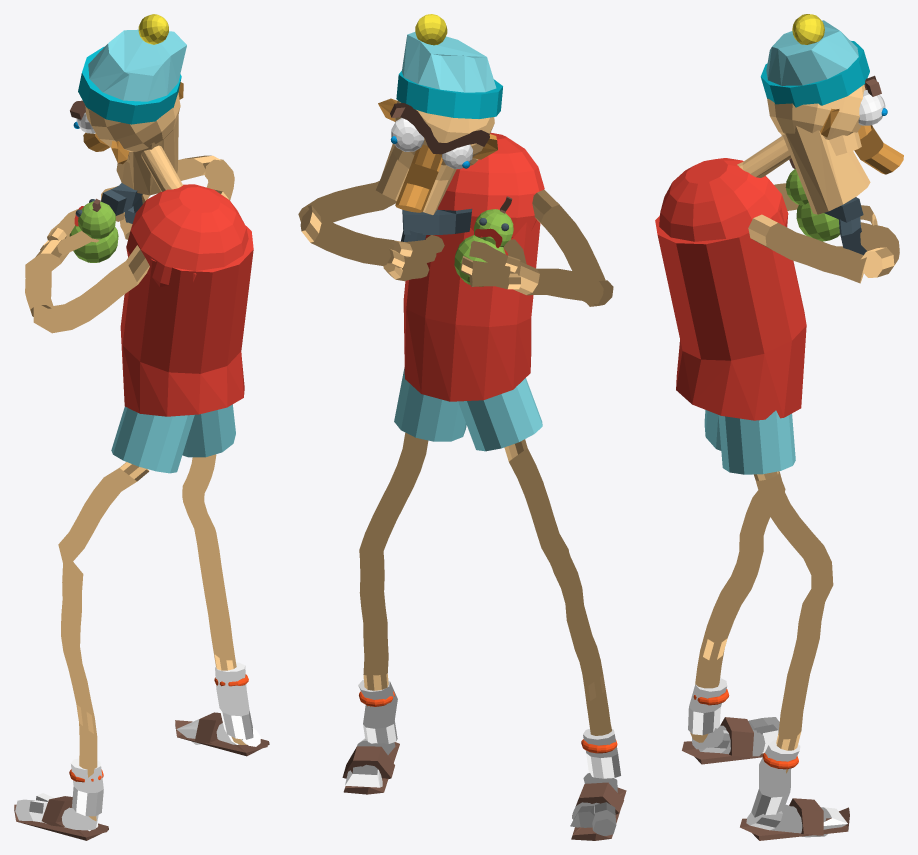
The model's file is scene_1KHJQUOKlw.glb.
3 views of the same model, side by side, from view 1: azimuth 30°, elevation 25°; view 2: azimuth 150°, elevation 25°; view 3: azimuth 270°, elevation 25° (orthographic). The views are drawn at different scales.
Visible parts, largest first — view 1: Node; view 2: Node; view 3: Node.
Part boxes in pixels (x1,y1,x2,y2): Node: (14,14,269,840); Node: (298,14,626,840); Node: (655,14,903,840).
Size of the model in its own units: 0.7698 by 2.17 by 0.6068.
